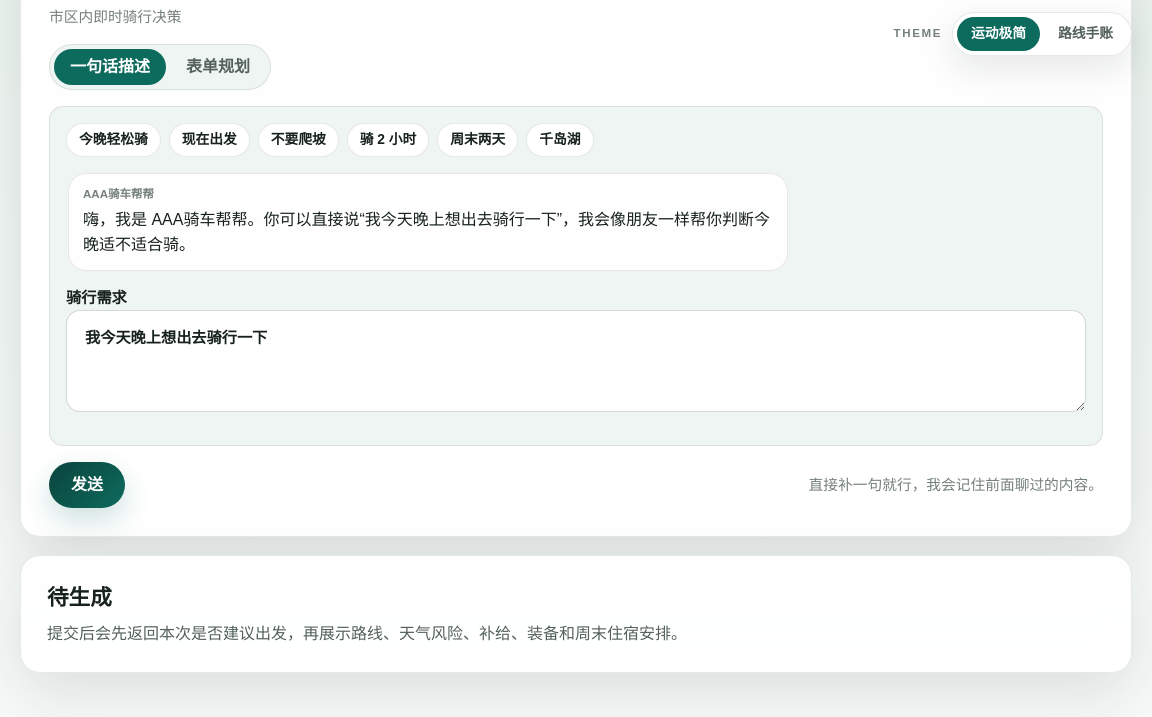
Scenario: submits query and shows loading state
(page scrolled)
Replace the text in the text box labelled "骑行需求" with "周六从滨江出发骑3小时，不想太累". click: (576, 361)
box: left=66, top=310, right=1086, bottom=412
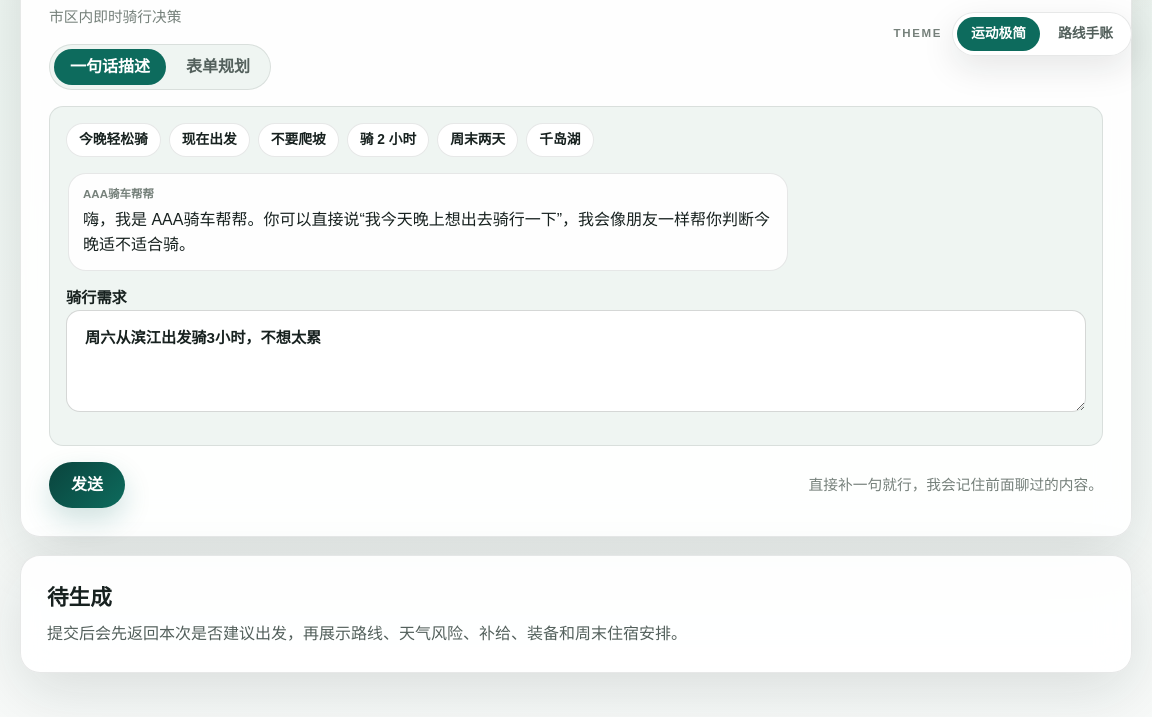
Click the button "发送". click: (87, 485)
box: left=49, top=462, right=125, bottom=508
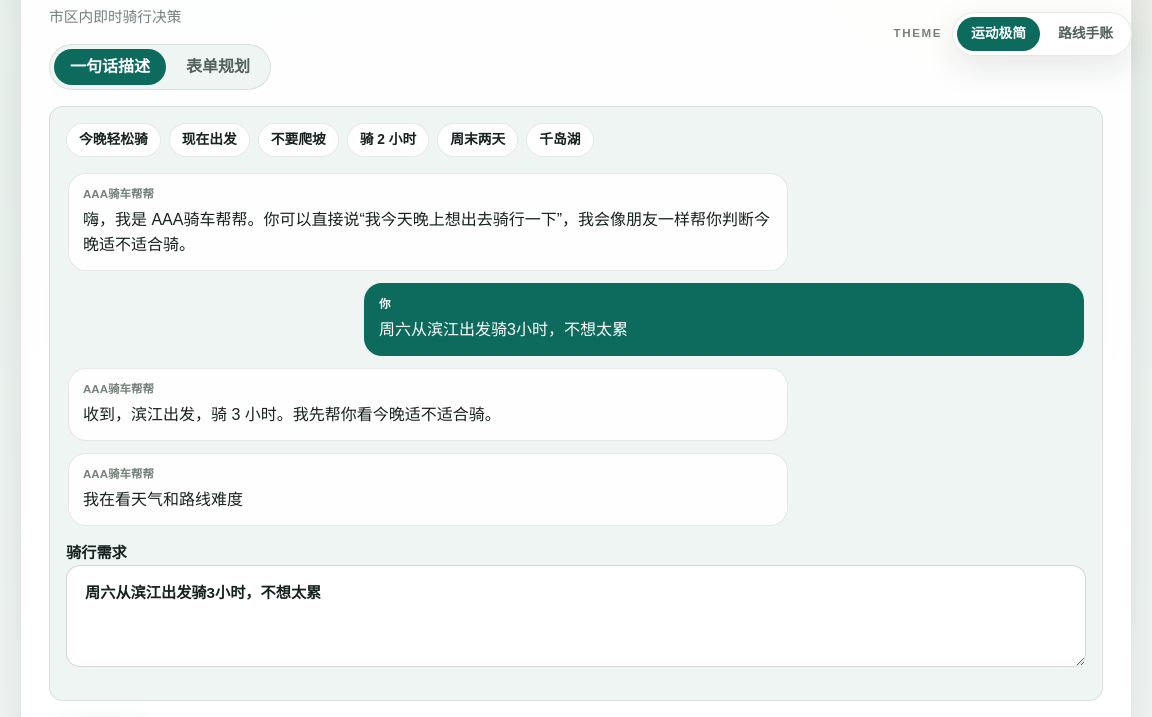
Result: the text "我在看天气和路线难度" is shown at left=83, top=491, right=243, bottom=508
